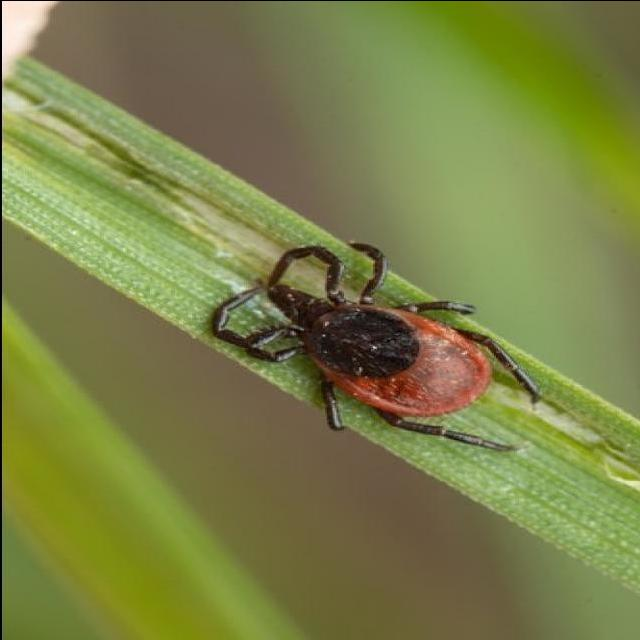Ixodes Ricinus-F: (211, 242, 538, 449)
